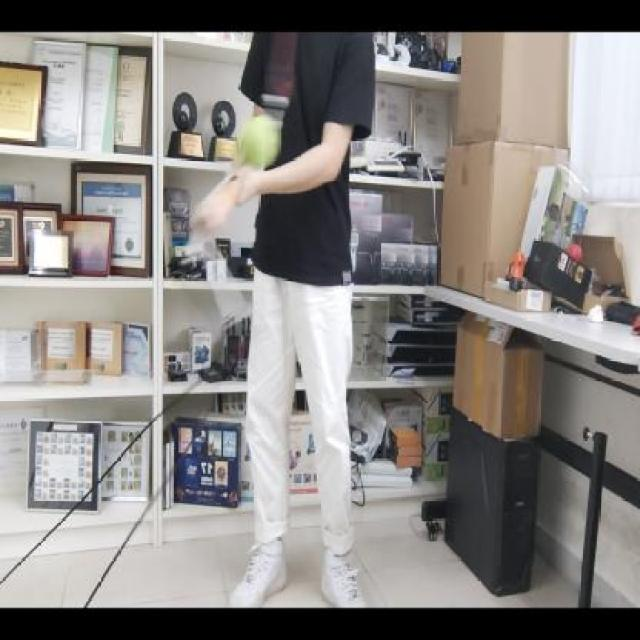baseball: (242, 112, 282, 166)
